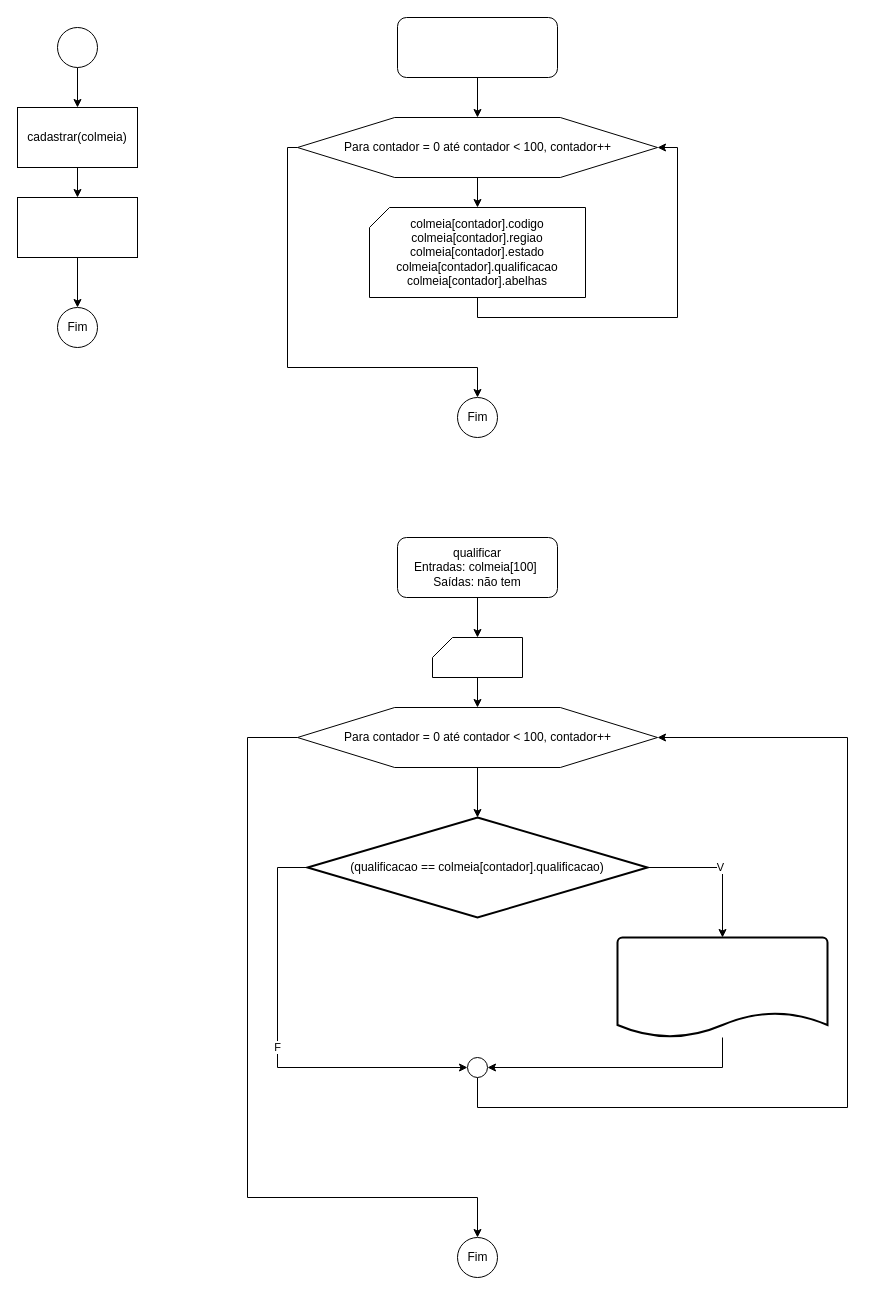
Some shapes in this 873 by 1295 pixel diagram are drawn without their labels. The centre of each missing label's shape, as x and y in pixels:
cadastrar Entradas: colmeia[100] Saídas: não tem: the point at 477,47
colmeia[contador].codigo colmeia[contador].regiao colmeia[contador].estado: the point at 722,987
Início: the point at 77,47
qualificacao: the point at 477,657
qualificar(colmeia): the point at 77,227
